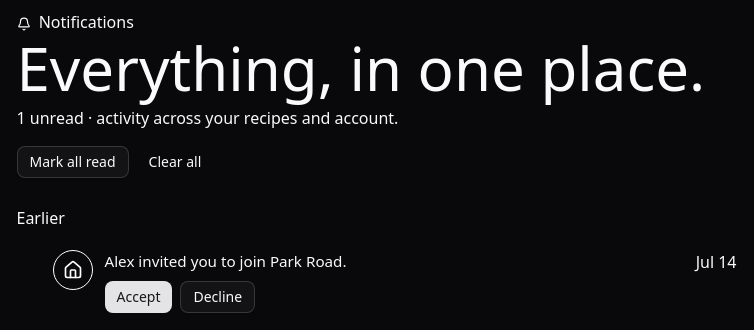
Test: NotificationsView › marks all as read without removing notifications
Click the button "Mark all read" at {"x": 72, "y": 162}, box [16, 146, 128, 178]
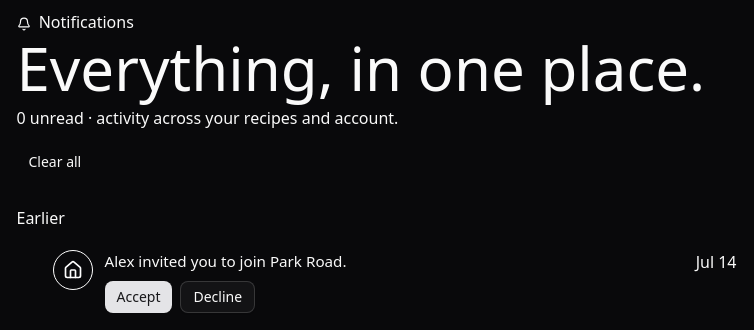
Check: the text "Alex invited you to join Park Road." is shown, box [104, 251, 346, 271]
Check: the text "0 unread · activity across your recipes and account." is shown, box [16, 107, 398, 129]
